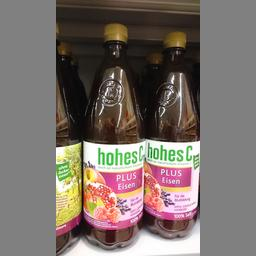juice: (80, 18, 143, 249), (140, 31, 198, 234)
